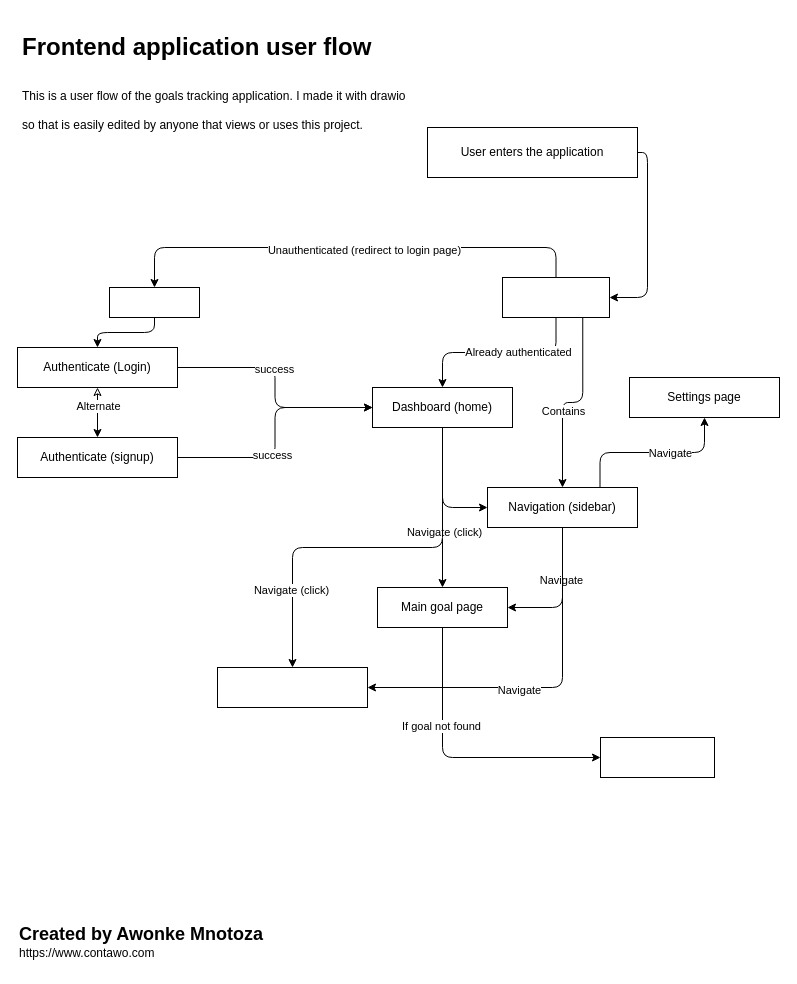
This 797x984 diagram has some shape labels left out. Here are the shapes that lost their labels. From the top down, the centre of each, then its label:
the point at 154,302: Auth Layout
the point at 556,297: Main Layout
the point at 292,687: Create new goal page
the point at 657,757: Error Page
